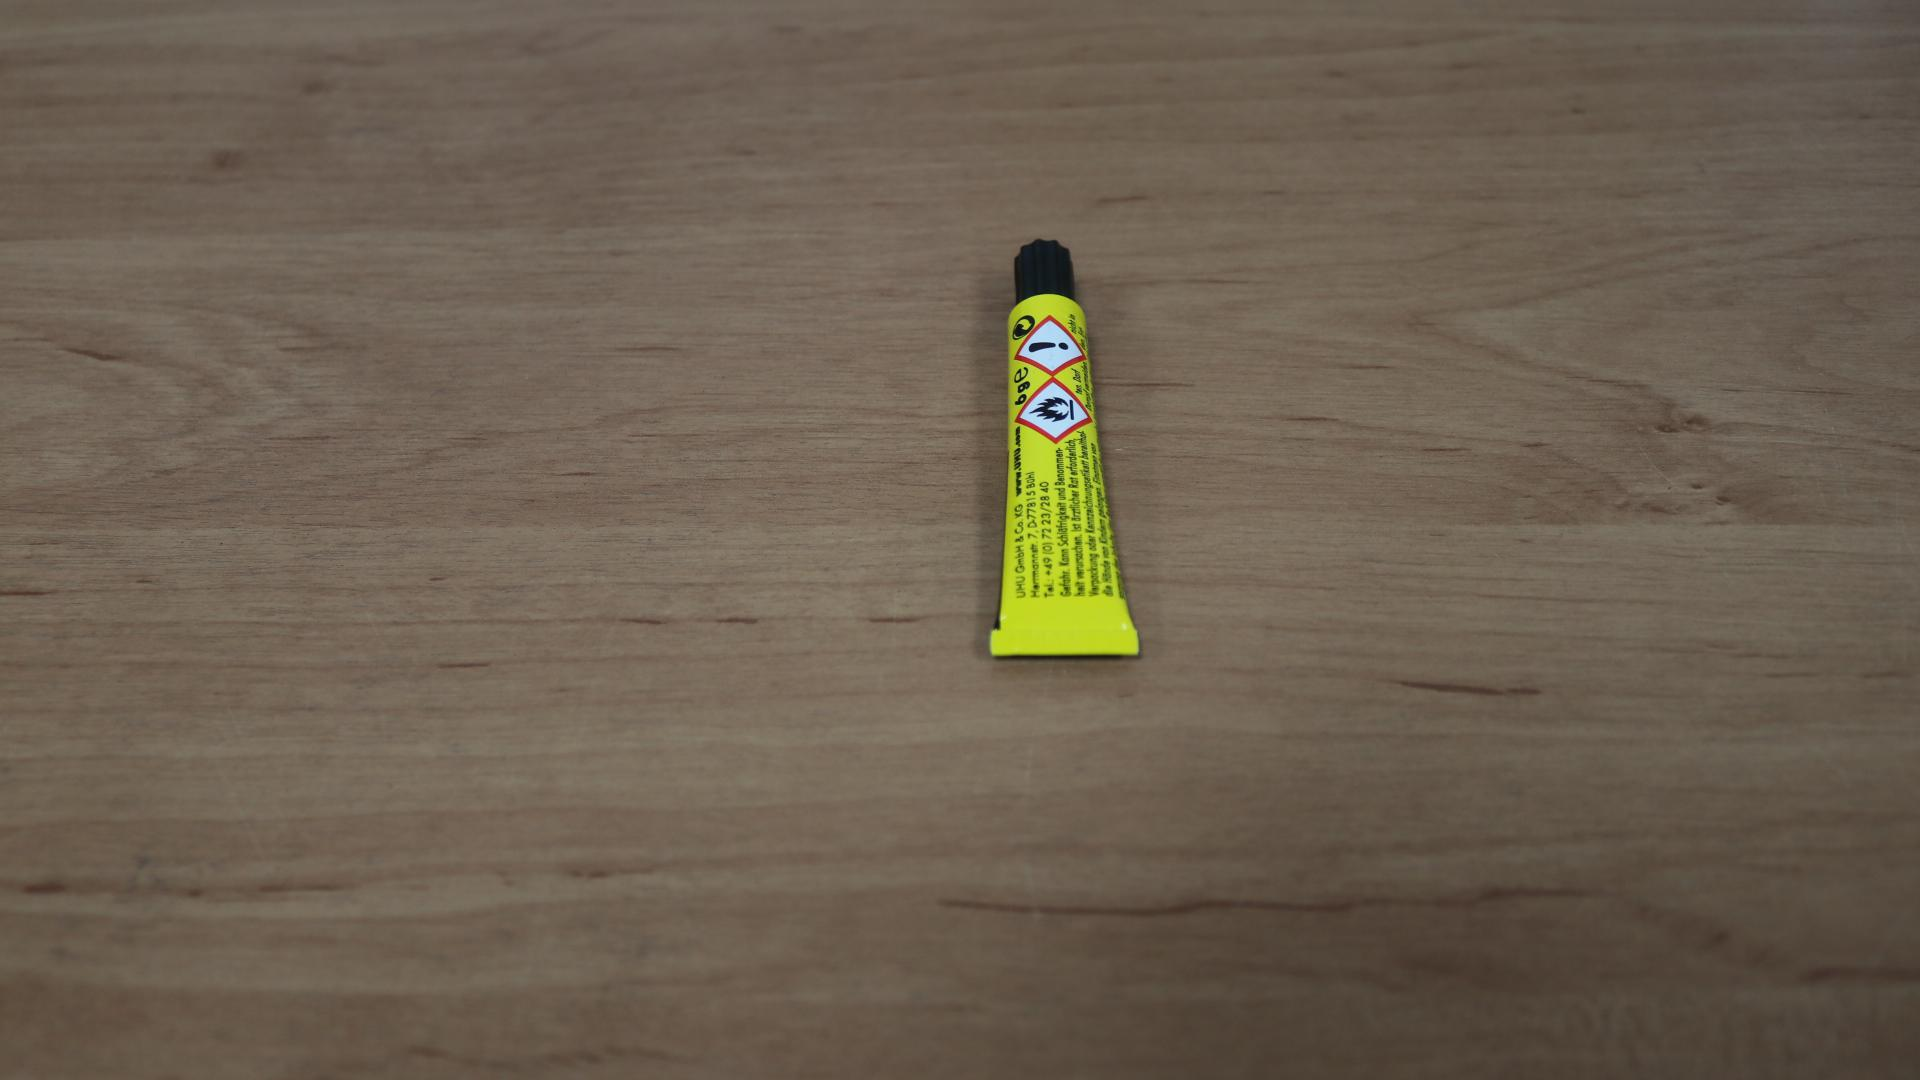Head: (1041, 266, 1050, 275)
Tail: (1059, 637, 1073, 648)
Tube: (988, 240, 1145, 664)
